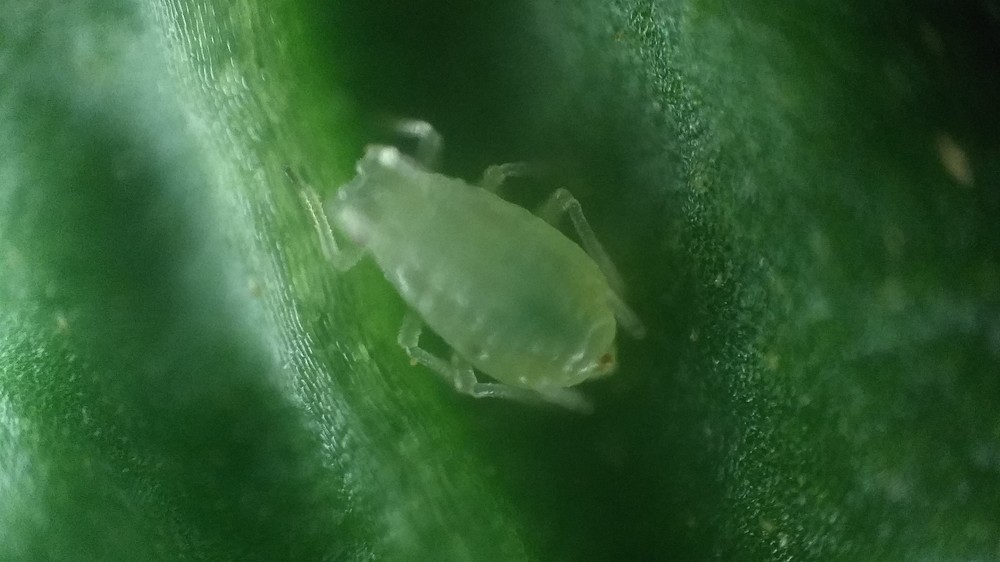Pulgon: (281, 108, 699, 438)
